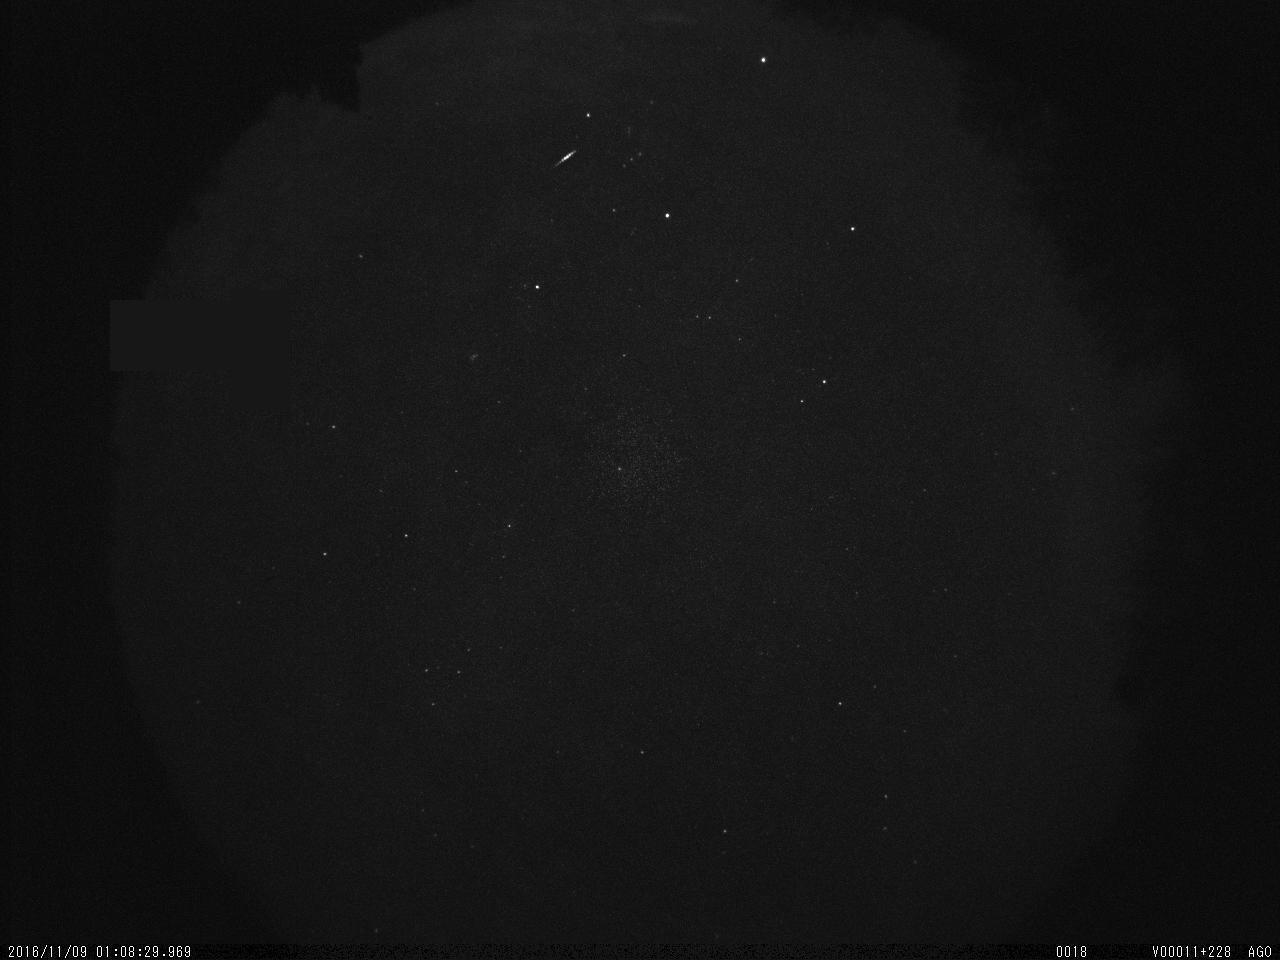Meteor: (552, 146, 579, 168)
